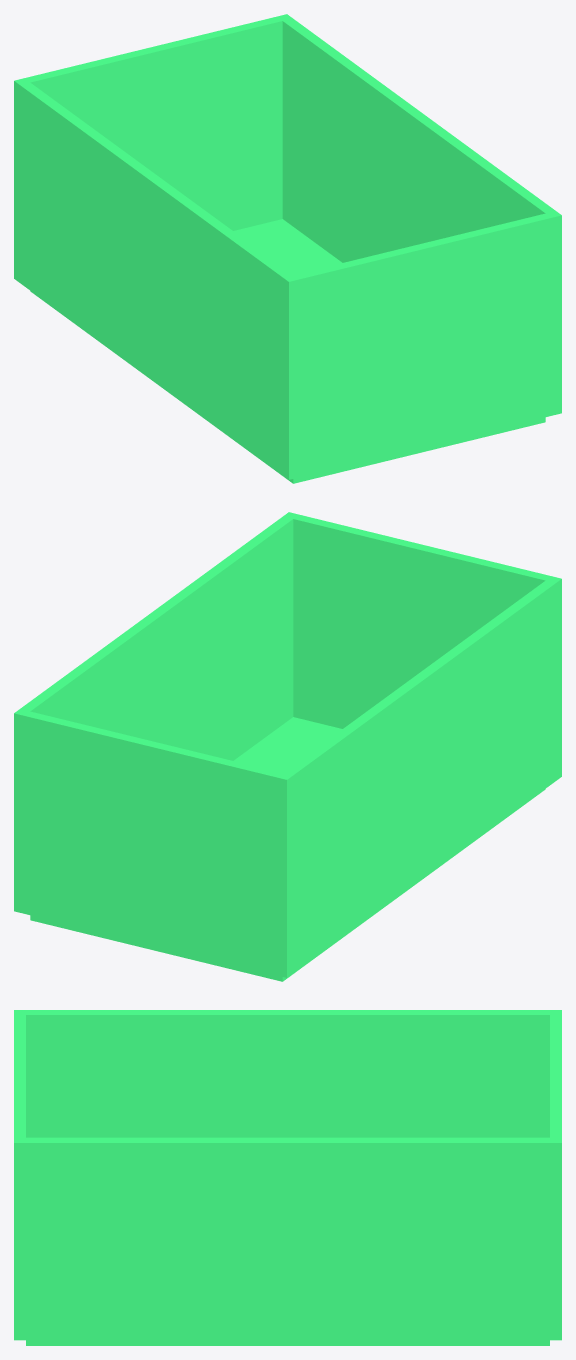
Rendered from colliders.glb.
3 views of the same model, one above another, from view 1: azimuth 30°, elevation 25°; view 2: azimuth 150°, elevation 25°; view 3: azimuth 270°, elevation 25° (orthographic).
Visible parts, largest first — view 1: Wall-Zmax, Wall-Xmin, Wall-Xmax, Wall-Zmin, Floor; view 2: Wall-Zmin, Wall-Xmin, Wall-Xmax, Wall-Zmax, Floor; view 3: Wall-Xmax, Wall-Xmin, Wall-Zmin, Wall-Zmax, Floor.
Boxes of the visible parts, x1,y1,x2,y2 form: Wall-Zmax: [283, 211, 561, 479]; Wall-Xmin: [20, 82, 292, 475]; Wall-Xmax: [282, 18, 555, 262]; Wall-Zmin: [14, 14, 292, 282]; Floor: [30, 219, 545, 483]; Wall-Zmin: [14, 709, 292, 977]; Wall-Xmin: [283, 580, 555, 973]; Wall-Xmax: [20, 516, 293, 760]; Wall-Zmax: [283, 512, 561, 780]; Floor: [30, 717, 545, 981]; Wall-Xmax: [26, 1137, 549, 1340]; Wall-Xmin: [26, 1010, 549, 1137]; Wall-Zmin: [550, 1010, 561, 1340]; Wall-Zmax: [14, 1010, 25, 1340]; Floor: [26, 1340, 549, 1345].
Size of the model in its own units: 7.9 by 5.78 by 13.78.
